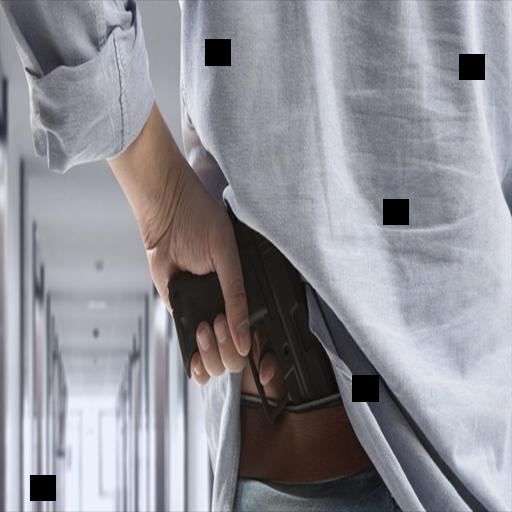Handgun: (164, 193, 357, 433)
